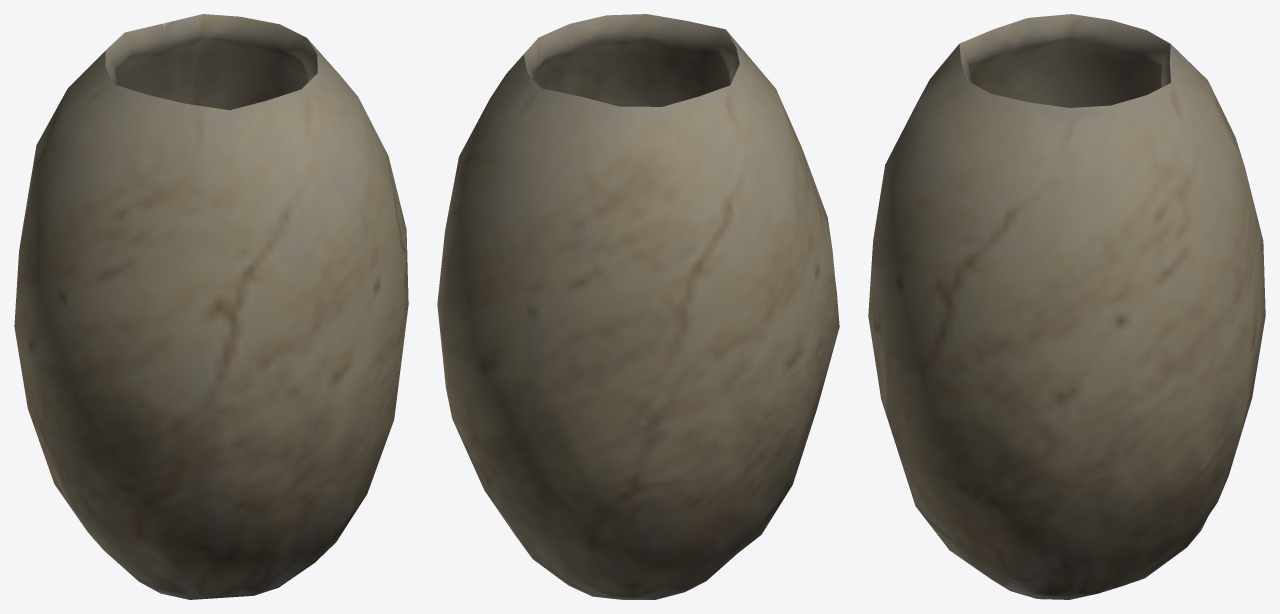
File: o_com_zhuangshi_03.fbx
3 views of the same model, side by side, from view 1: azimuth 30°, elevation 25°; view 2: azimuth 150°, elevation 25°; view 3: azimuth 270°, elevation 25° (orthographic).
Visible parts, largest first — view 1: o_com_zhuangshi_03; view 2: o_com_zhuangshi_03; view 3: o_com_zhuangshi_03.
Boxes of the visible parts, left/top/right/bottom form: o_com_zhuangshi_03: left=14, top=14, right=408, bottom=599; o_com_zhuangshi_03: left=437, top=14, right=839, bottom=599; o_com_zhuangshi_03: left=868, top=14, right=1265, bottom=599.
Bounding box in the file's own units: 10.45 × 14.62 × 10.39.
